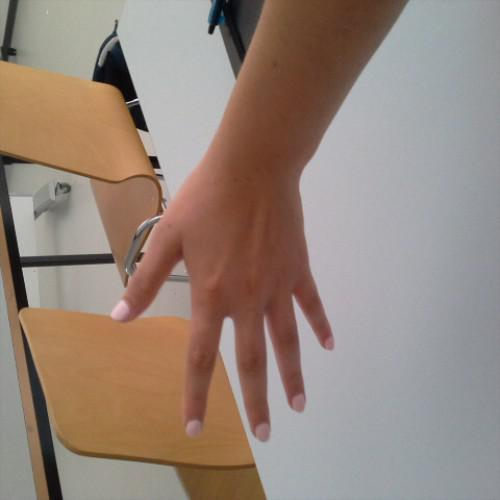paper: (107, 178, 339, 446)
